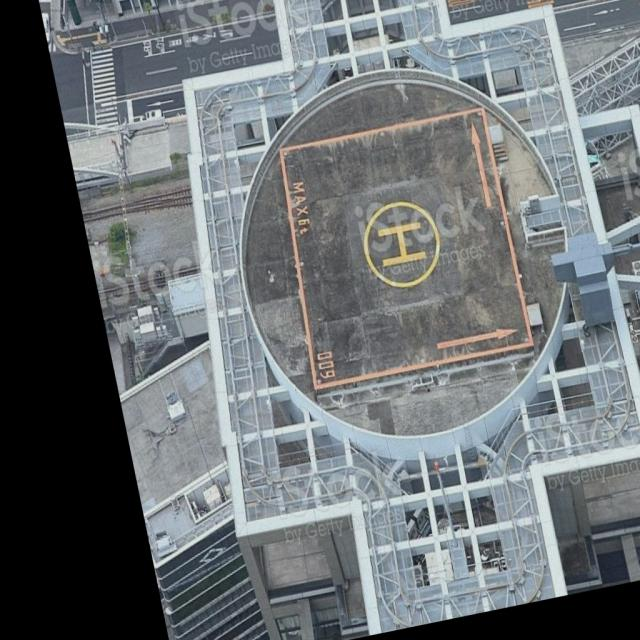helipad: (362, 200, 442, 290)
